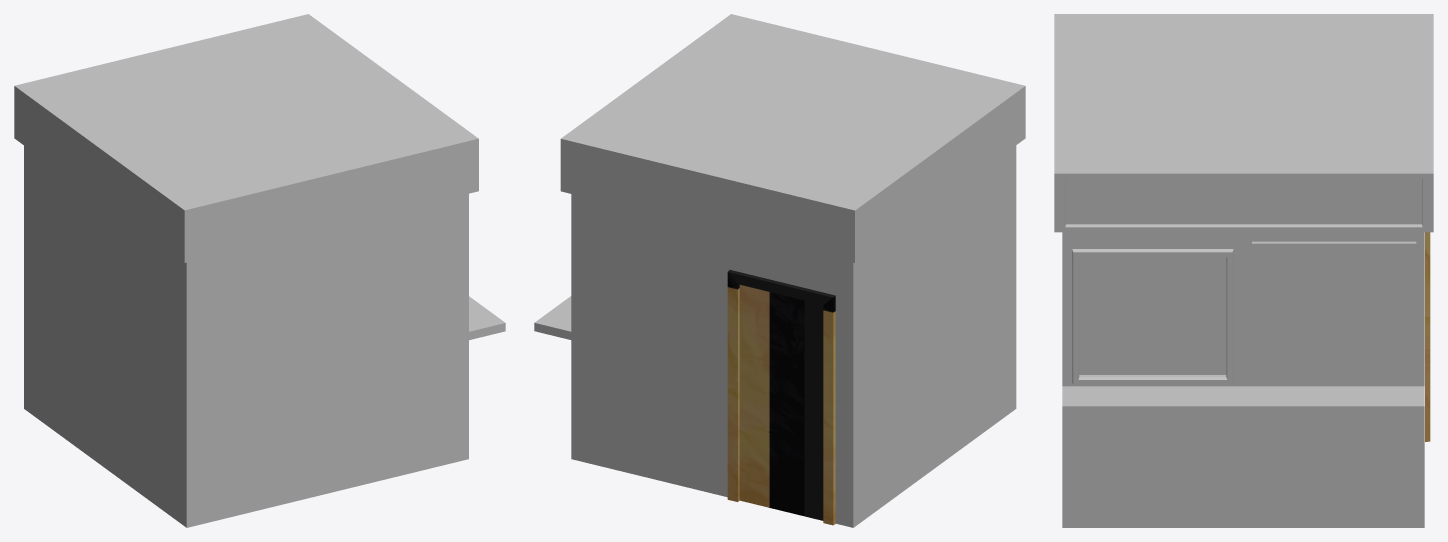
Rendered from boba_stall.fbx.
The picture shows the model from 3 angles, left to right: view 1: azimuth 30°, elevation 25°; view 2: azimuth 150°, elevation 25°; view 3: azimuth 270°, elevation 25°; orthographic projection. The views are drawn at different scales.
Visible parts, largest first — view 1: building, roof, bench; view 2: building, roof, door, bench; view 3: roof, building, sign, bench, window, door.
Part boxes in pixels (x1,y1,x2,y2): building: (24, 145, 468, 527); roof: (14, 14, 478, 262); bench: (469, 296, 505, 340); building: (571, 145, 1016, 527); roof: (560, 14, 1025, 262); door: (727, 270, 835, 525); bench: (534, 296, 571, 339); roof: (1054, 14, 1433, 232); building: (1062, 232, 1424, 527); sign: (1252, 241, 1416, 380); bench: (1062, 386, 1424, 415); window: (1072, 249, 1233, 384); door: (1425, 232, 1430, 441).
Size of the model in its own units: 1151 by 1089 by 1046.
